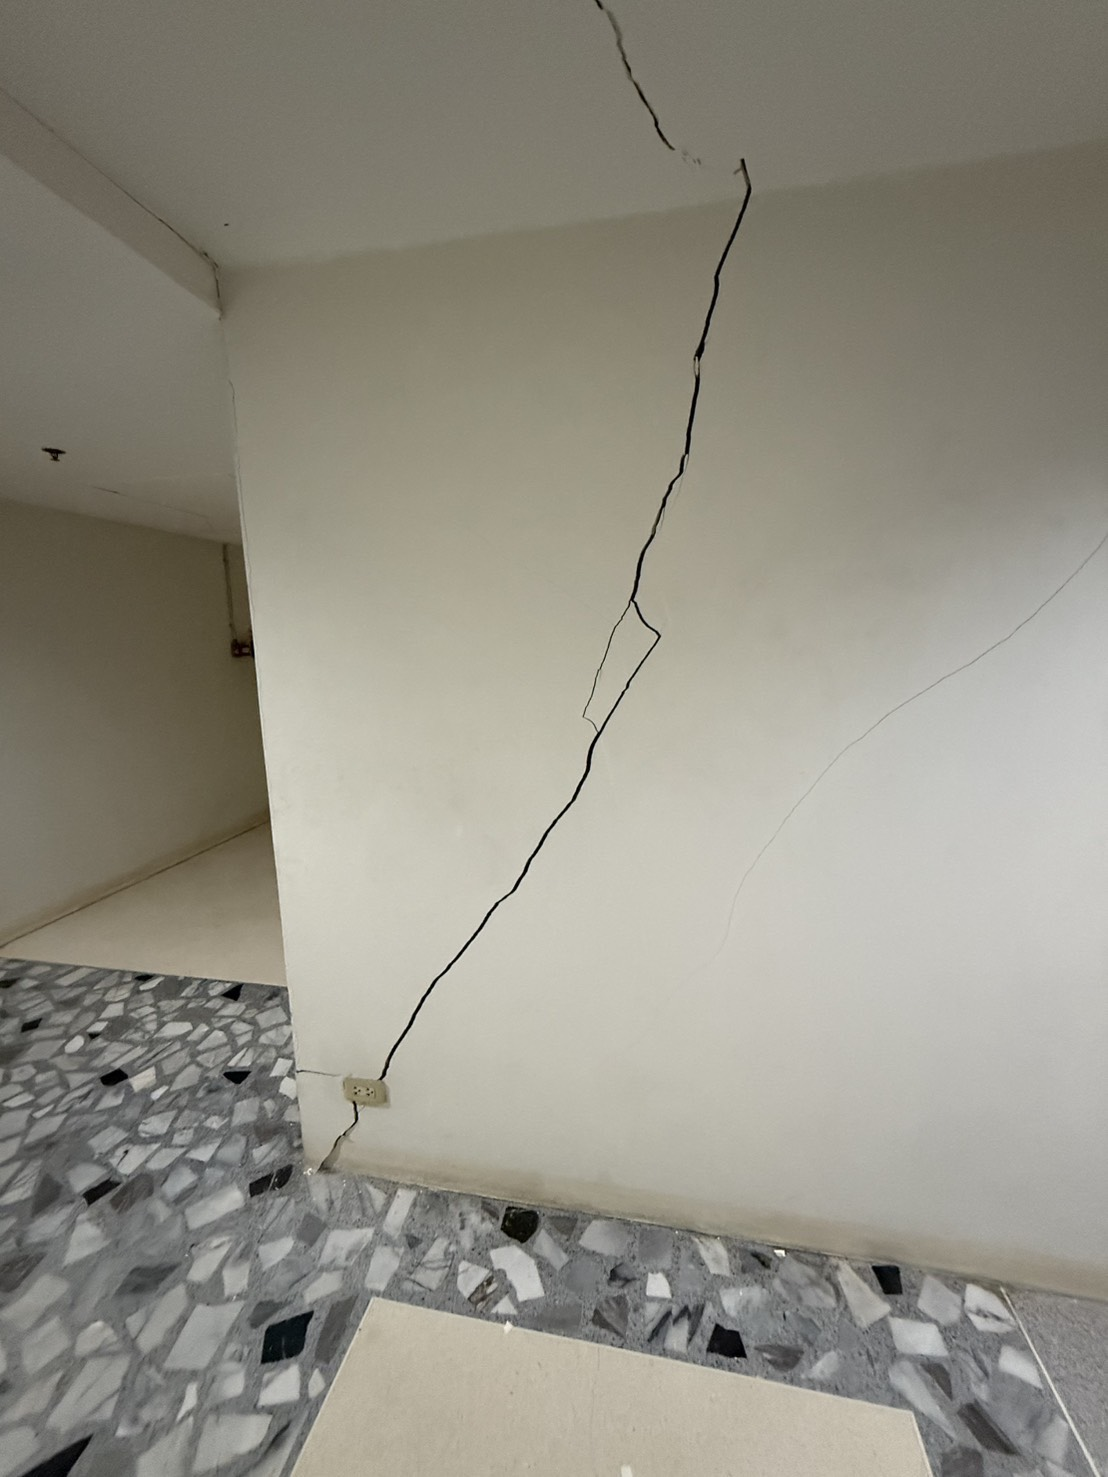High: (305, 2, 757, 1216)
